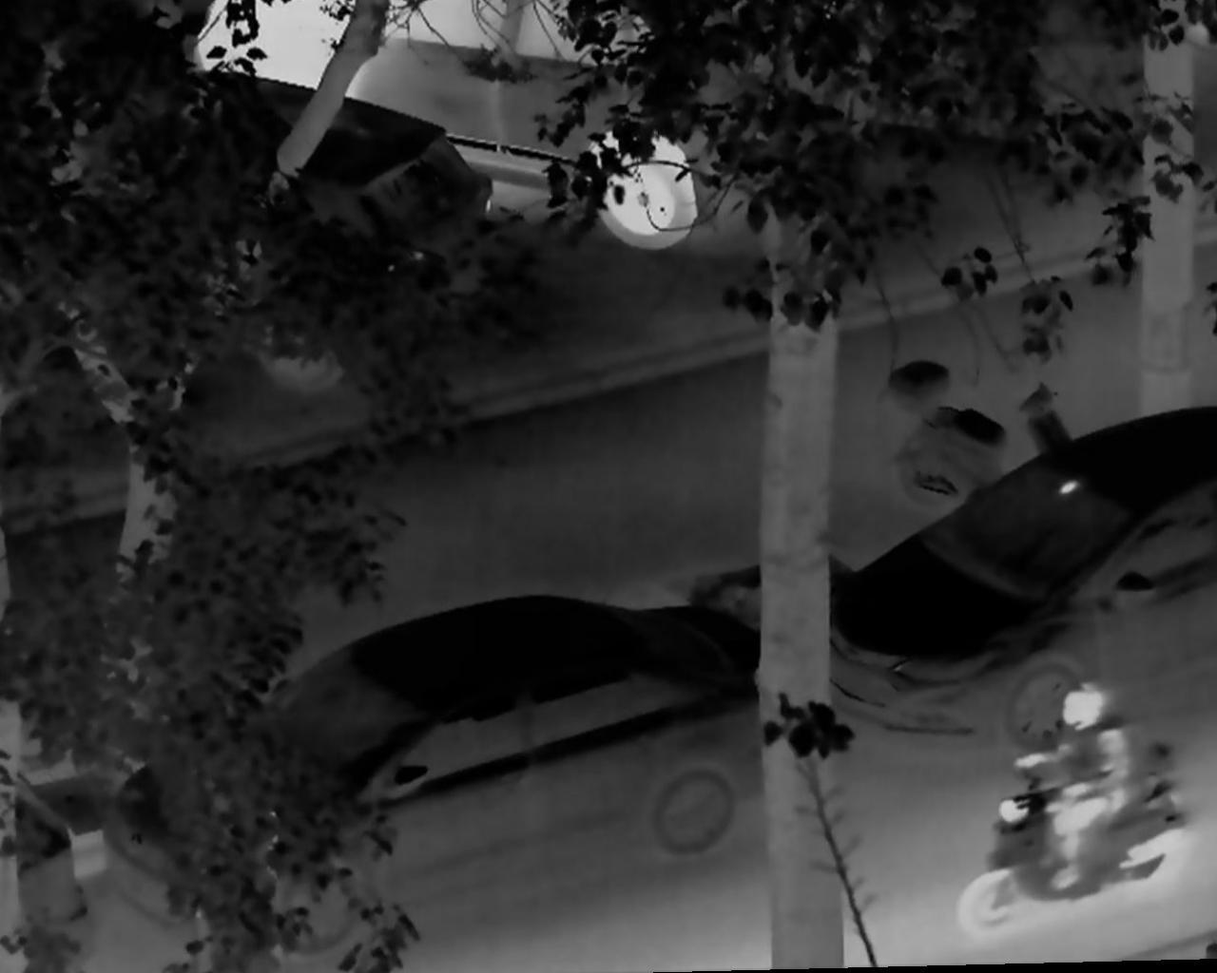person: (1011, 681, 1130, 893)
